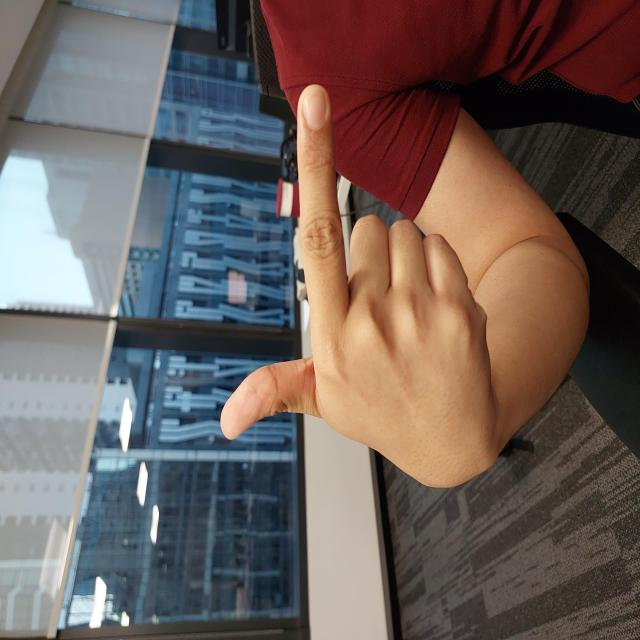G: (146, 218, 559, 500)
